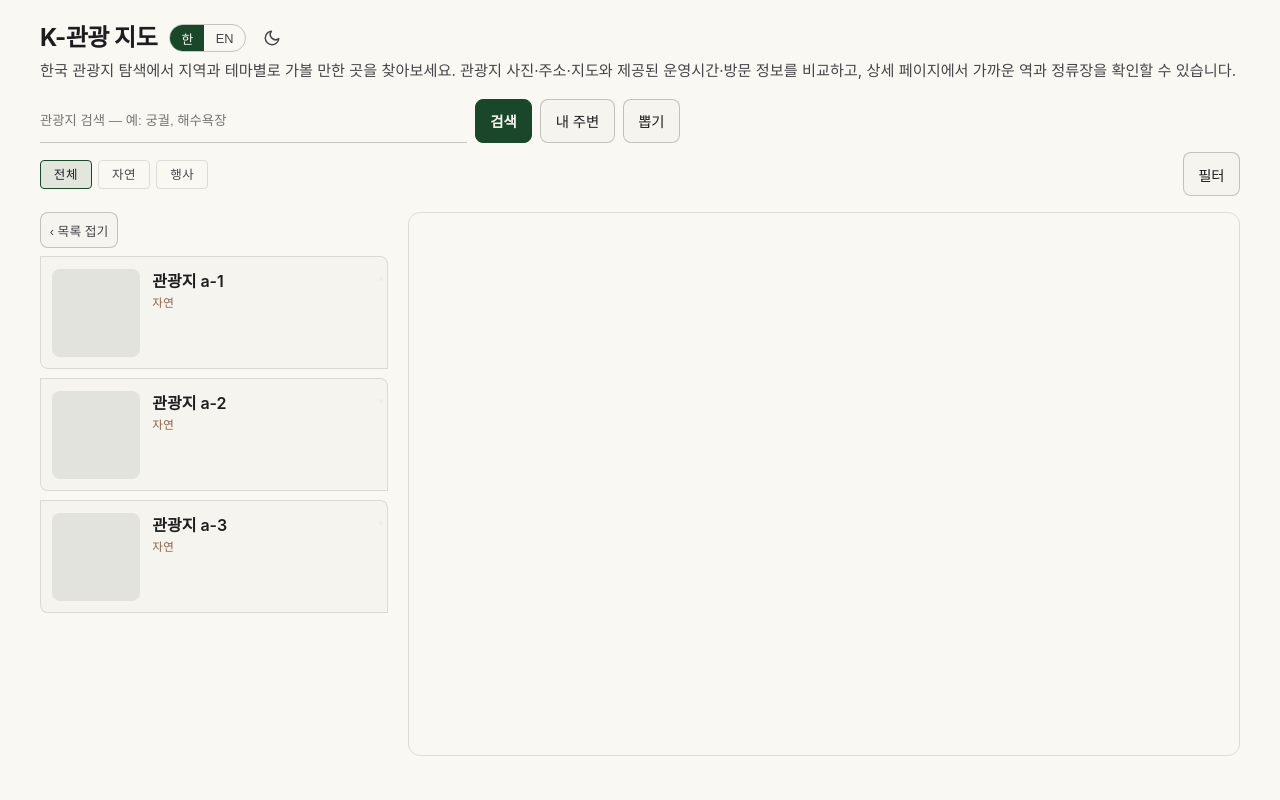
Scenario: 넓은 화면 › 필터 한 줄만 그리고 나머지 칩은 「필터」를 열기 전에는 없다 — 열면 가운데 다이얼로그
expect the heading "관광지 a-1" is shown: met, box [152, 269, 224, 293]
Click the button "필터": x=1211, y=174 [1183, 152, 1240, 196]
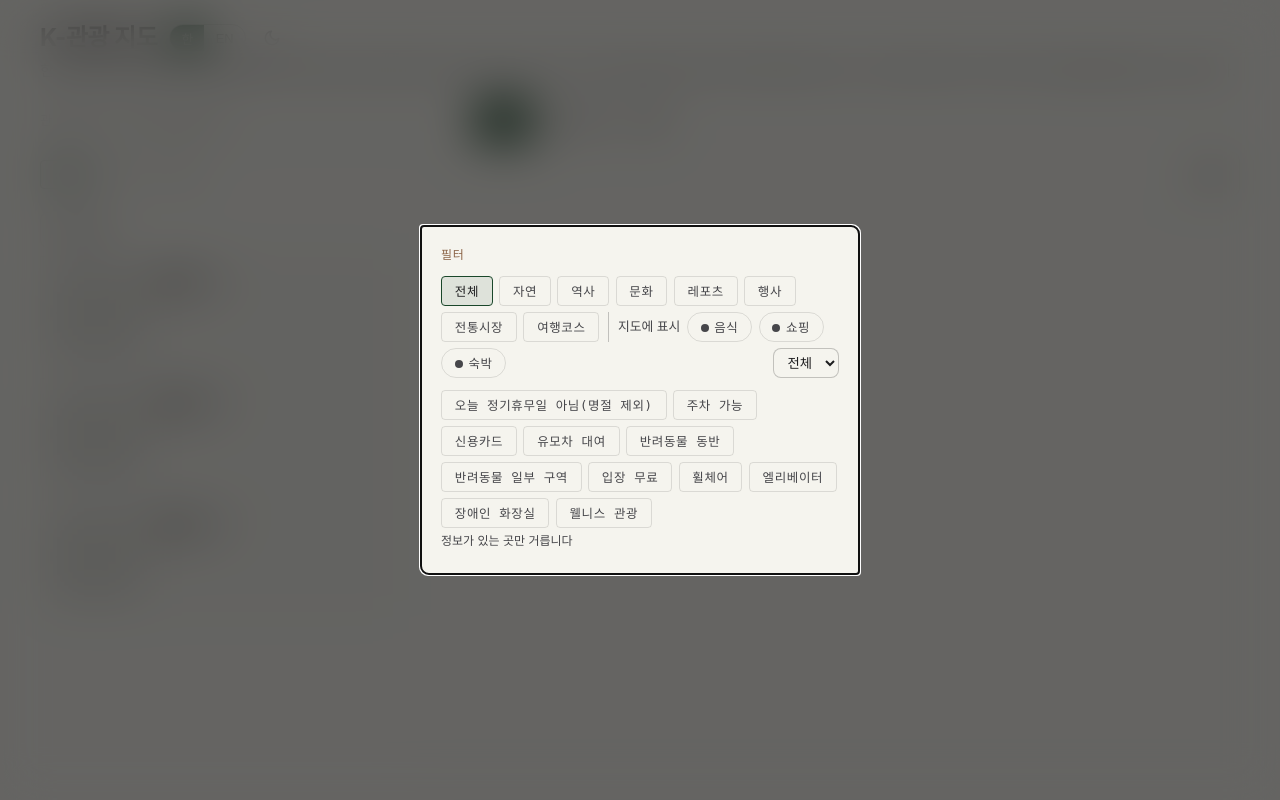
expect the element named "방문 정보 필터" is shown: met, box [441, 390, 839, 550]
expect the button "역사" is shown: met, box [557, 276, 609, 306]
